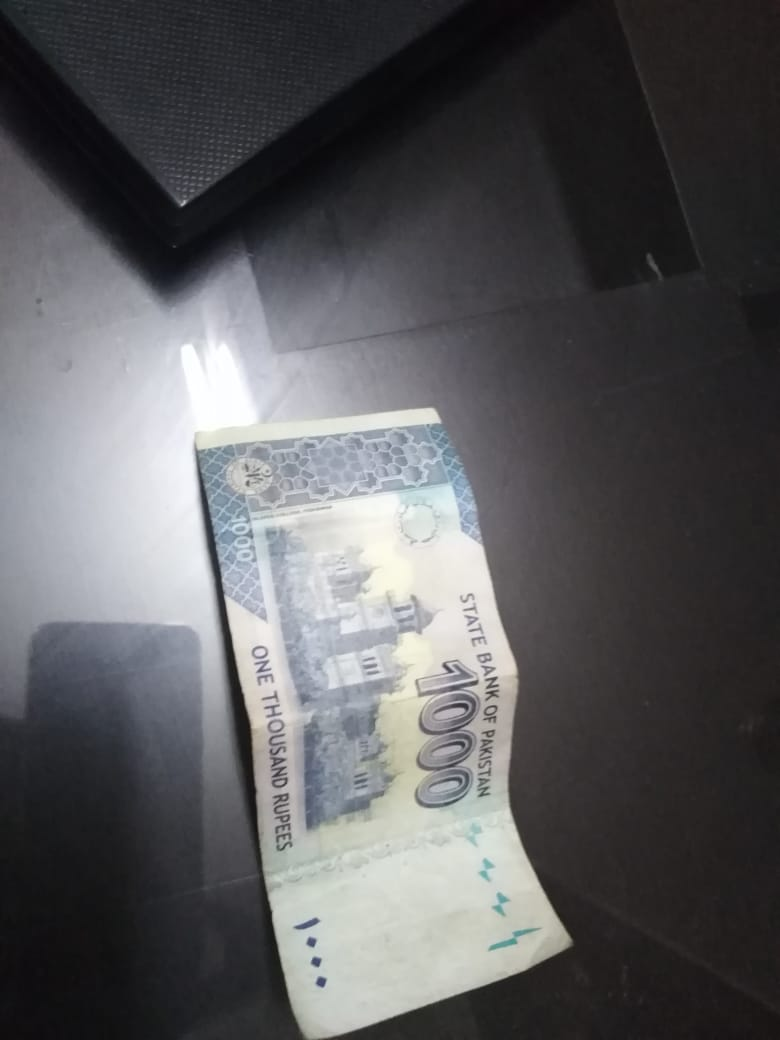1000 rupee: (173, 372, 602, 1013)
